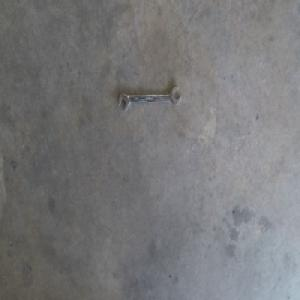Wrench: (118, 86, 180, 112)
